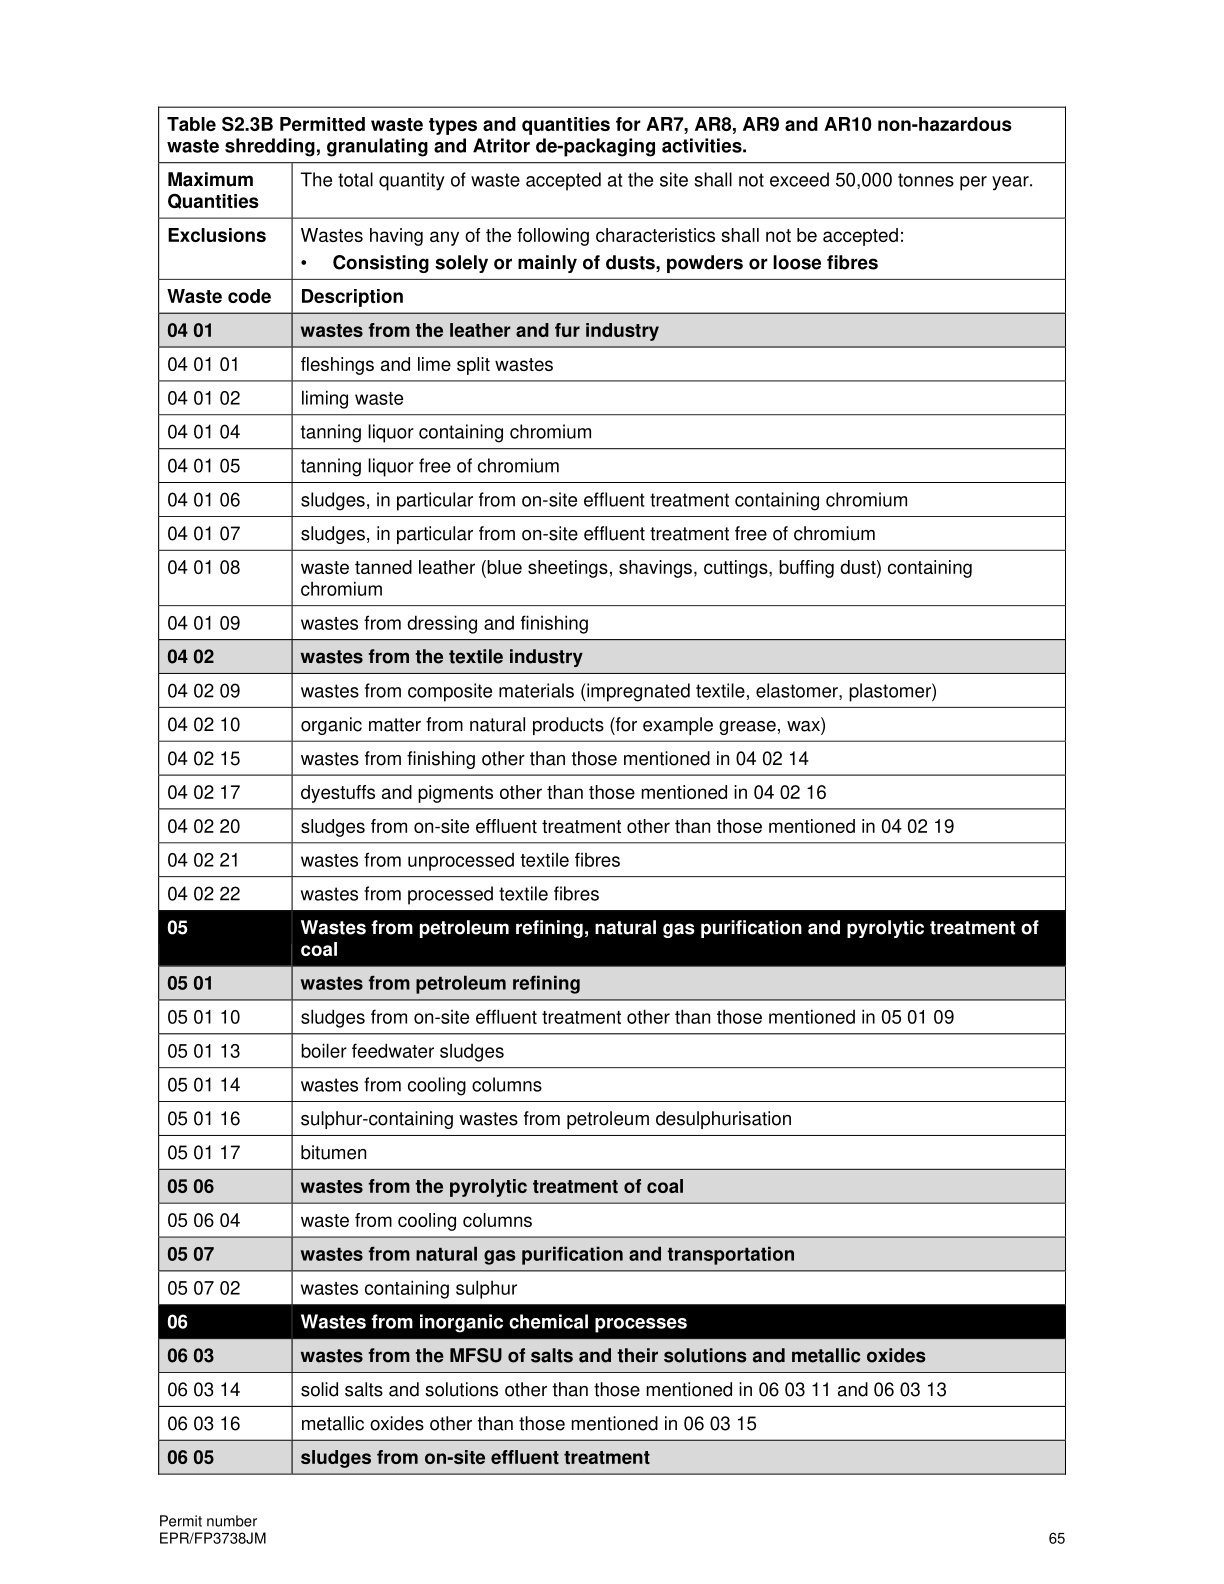merged_cells: (156, 105, 1067, 1476)
